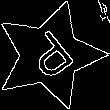P_SE: (18, 24, 81, 87)
